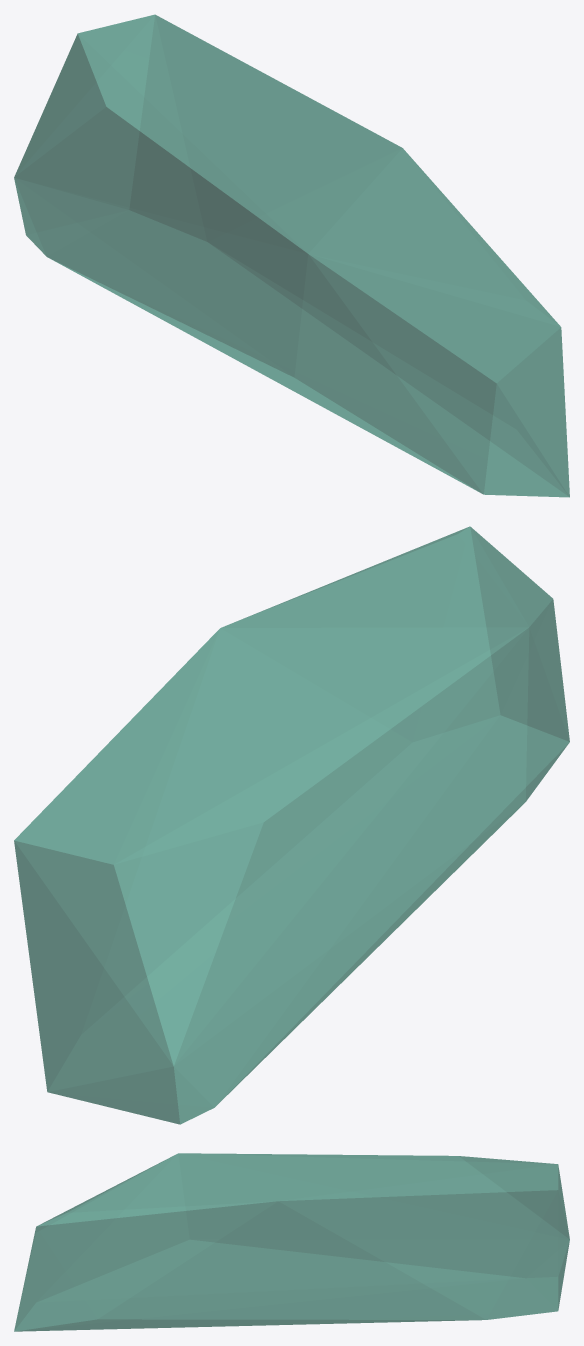
3 renders of one model, top to bottom at view 1: azimuth 30°, elevation 25°; view 2: azimuth 150°, elevation 25°; view 3: azimuth 270°, elevation 25°, orthographic. The views are drawn at different scales.
Parts seen in each view (by area): view 1: Shape_IndexedFaceSet.033_Shape_IndexedFaceSet.9080; view 2: Shape_IndexedFaceSet.033_Shape_IndexedFaceSet.9080; view 3: Shape_IndexedFaceSet.033_Shape_IndexedFaceSet.9080.
Part boxes in pixels (x1,y1,x2,y2): Shape_IndexedFaceSet.033_Shape_IndexedFaceSet.9080: [14, 14, 569, 497]; Shape_IndexedFaceSet.033_Shape_IndexedFaceSet.9080: [14, 526, 569, 1124]; Shape_IndexedFaceSet.033_Shape_IndexedFaceSet.9080: [14, 1153, 569, 1331].
Bounding box in the file's own units: 0.089 × 0.0976 × 0.3539.
